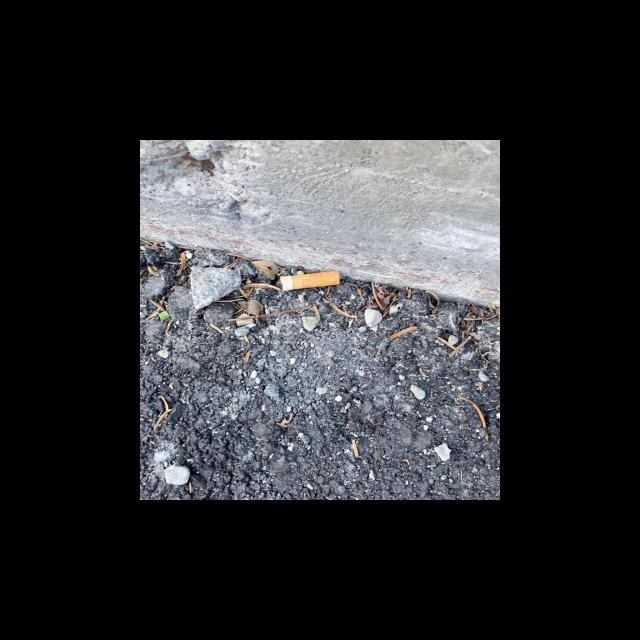cigarette: (279, 270, 340, 290)
